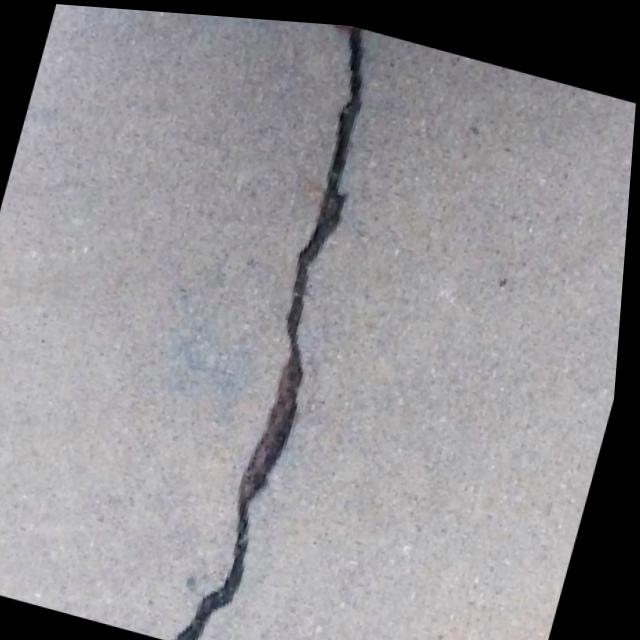Crack: (156, 14, 426, 640)
